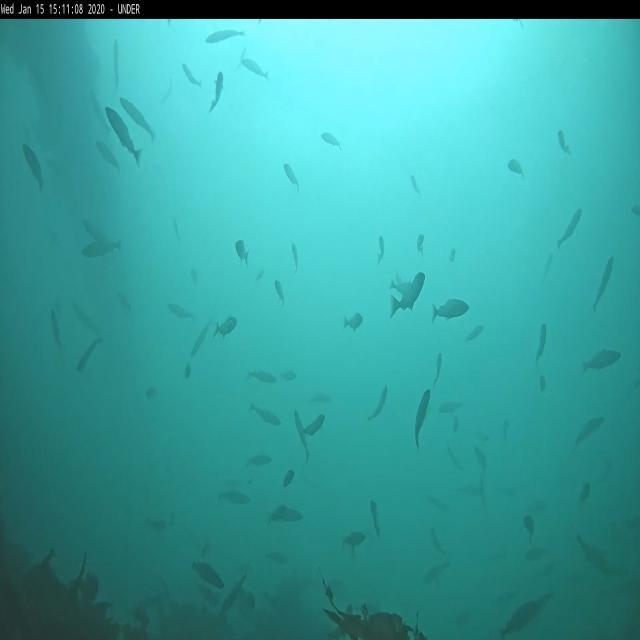fish: (104, 105, 142, 167), (120, 95, 160, 146), (388, 270, 426, 318), (500, 599, 544, 639), (576, 531, 612, 576), (190, 556, 226, 594), (592, 252, 614, 310), (220, 570, 248, 614), (556, 206, 582, 252), (22, 142, 44, 196), (432, 296, 469, 326), (574, 414, 606, 448), (582, 346, 620, 374), (293, 408, 311, 462), (414, 391, 431, 448), (77, 338, 101, 376), (368, 383, 388, 425), (204, 28, 245, 48), (218, 486, 252, 510), (249, 402, 281, 427), (189, 321, 209, 358), (240, 56, 269, 80), (247, 366, 277, 388), (168, 300, 198, 322), (214, 314, 238, 341), (209, 70, 224, 112), (424, 560, 451, 583), (534, 322, 548, 366), (302, 413, 326, 437), (81, 240, 122, 254), (181, 61, 201, 89), (369, 496, 382, 539), (342, 530, 366, 553), (112, 36, 122, 90), (49, 307, 62, 348), (282, 162, 300, 190), (266, 502, 286, 527), (278, 506, 303, 526), (438, 398, 464, 417), (557, 128, 574, 156), (343, 311, 364, 333), (507, 155, 525, 180), (525, 544, 550, 562), (234, 236, 250, 264), (246, 452, 272, 468), (321, 130, 342, 149), (522, 512, 536, 540), (464, 321, 482, 342), (282, 466, 296, 492), (432, 352, 442, 388), (290, 240, 300, 274), (578, 482, 592, 506), (377, 234, 387, 264), (410, 172, 422, 196), (273, 278, 284, 304), (416, 232, 424, 255)
